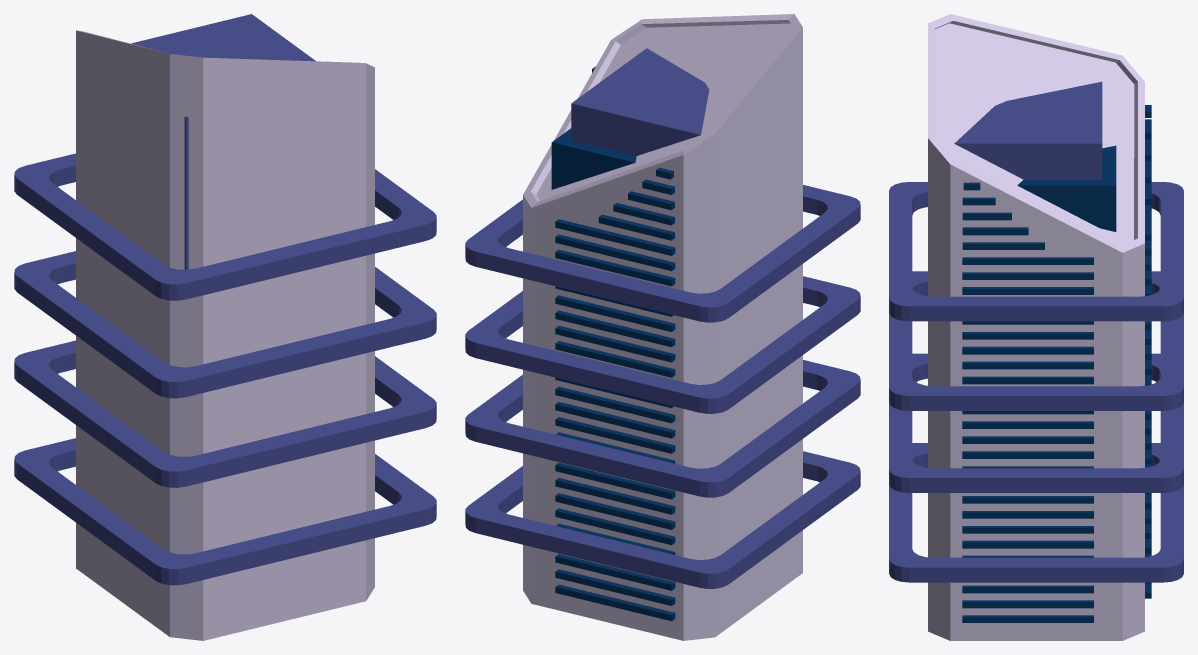
The model's file is Building1.fbx.
3 renders of one model, left to right at view 1: azimuth 30°, elevation 25°; view 2: azimuth 150°, elevation 25°; view 3: azimuth 270°, elevation 25°, orthographic. The views are drawn at different scales.
Visible parts, largest first — view 1: Cube, Cube.006, Cube.002; view 2: Cube, Cube.006, Cube.004, Cube.002, Cube.011, Cube.001; view 3: Cube, Cube.006, Cube.009, Cube.011, Cube.002, Cube.001, Cube.004.
Boxes of the visible parts, x1,y1,x2,y2 form: Cube: (76, 30, 374, 640); Cube.006: (14, 153, 436, 585); Cube.002: (131, 14, 315, 269); Cube: (523, 14, 802, 640); Cube.006: (465, 185, 860, 588); Cube.004: (555, 167, 675, 621); Cube.002: (571, 48, 709, 155); Cube.011: (536, 23, 794, 200); Cube.001: (551, 128, 636, 189); Cube: (928, 14, 1144, 640); Cube.006: (889, 182, 1183, 582); Cube.009: (962, 182, 1093, 622); Cube.011: (935, 23, 1134, 245); Cube.002: (954, 81, 1102, 179); Cube.001: (1017, 145, 1116, 231); Cube.004: (1145, 105, 1151, 598).
Size of the model in its own units: 3580 by 7304 by 3580.
